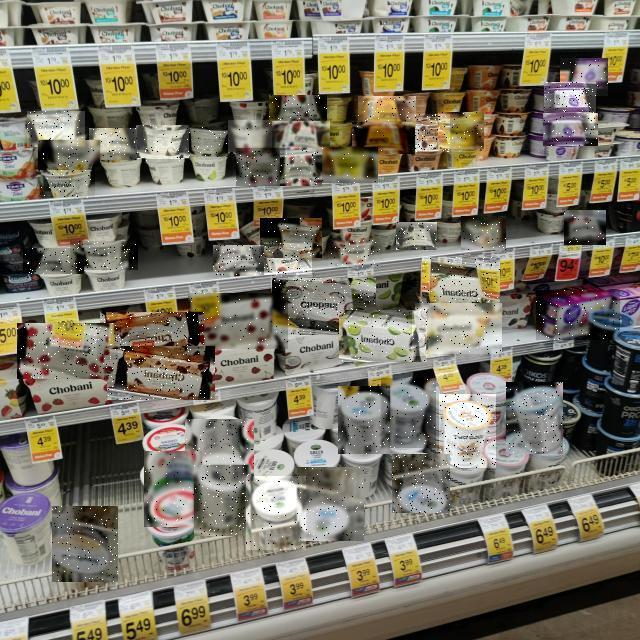Yoghurt: (272, 278, 376, 335), (107, 346, 215, 400), (188, 293, 288, 349), (18, 323, 118, 379), (52, 506, 118, 582), (423, 257, 501, 321), (101, 312, 205, 360), (297, 467, 364, 541), (340, 310, 430, 362), (415, 304, 502, 356), (247, 477, 307, 551), (144, 451, 202, 527), (185, 419, 254, 481), (439, 394, 496, 468), (536, 290, 620, 340), (506, 382, 563, 454), (194, 465, 251, 536), (381, 379, 436, 449), (338, 387, 390, 455), (392, 454, 450, 513), (260, 218, 322, 258), (316, 147, 378, 183), (273, 121, 331, 158), (545, 82, 597, 123), (27, 111, 85, 147), (352, 122, 415, 154), (71, 241, 139, 270), (38, 164, 95, 198), (136, 126, 189, 162), (236, 148, 285, 186), (39, 141, 101, 171), (269, 95, 327, 127), (358, 96, 416, 128), (560, 58, 608, 96), (543, 113, 598, 146), (438, 112, 484, 149), (406, 114, 450, 152), (23, 249, 84, 275), (264, 243, 312, 275), (89, 128, 137, 160), (461, 216, 506, 250), (213, 246, 264, 276), (280, 150, 322, 186), (328, 238, 380, 267), (565, 210, 607, 245), (228, 121, 272, 153), (189, 127, 229, 157), (396, 222, 437, 250)
